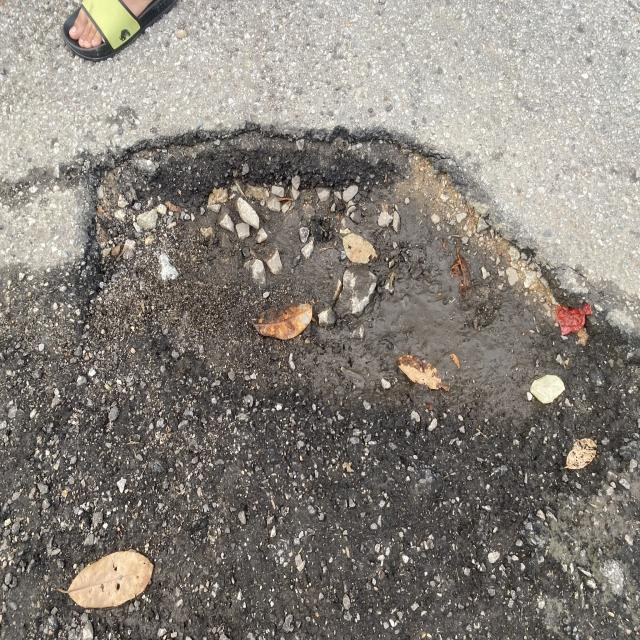pothole: (86, 95, 631, 428)
